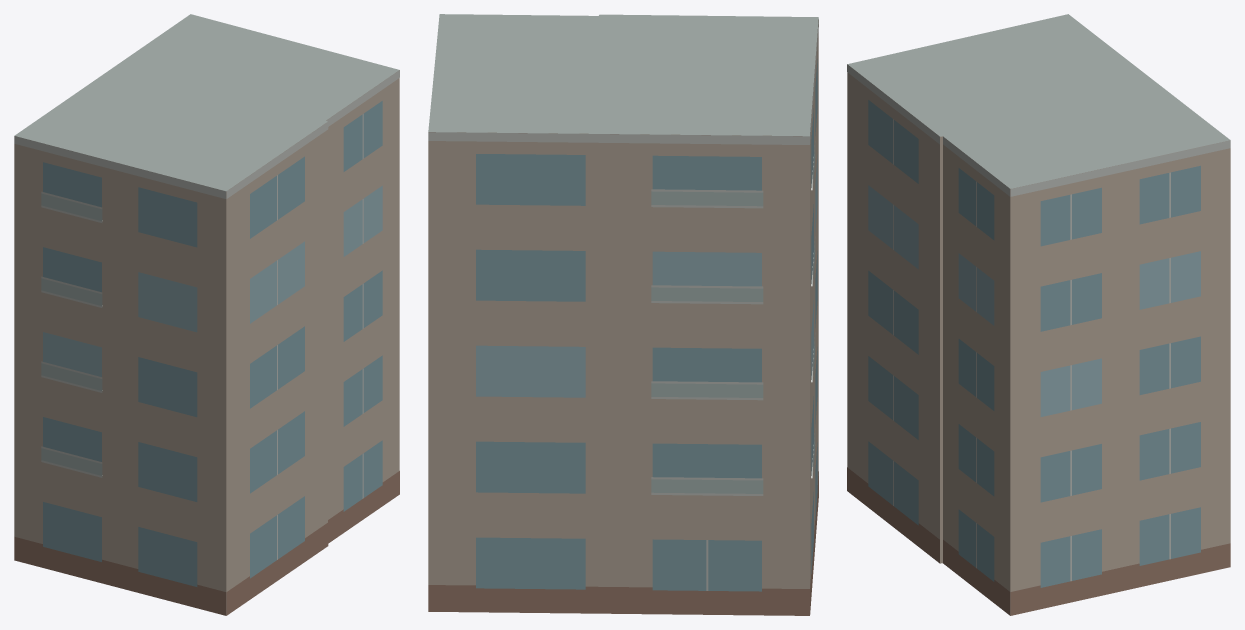
The model's file is survey-upis-32655921.glb.
3 views of the same model, side by side, from view 1: azimuth 30°, elevation 25°; view 2: azimuth 150°, elevation 25°; view 3: azimuth 270°, elevation 25° (orthographic). The views are drawn at different scales.
Parts seen in each view (by area): view 1: survey-upis-32655921.tmp; view 2: survey-upis-32655921.tmp; view 3: survey-upis-32655921.tmp.
Boxes of the visible parts, x1,y1,x2,y2 form: survey-upis-32655921.tmp: (14, 14, 399, 615); survey-upis-32655921.tmp: (428, 14, 818, 615); survey-upis-32655921.tmp: (847, 14, 1230, 615).
Bounding box in the file's own units: 11.53 × 13.1 × 10.67.
